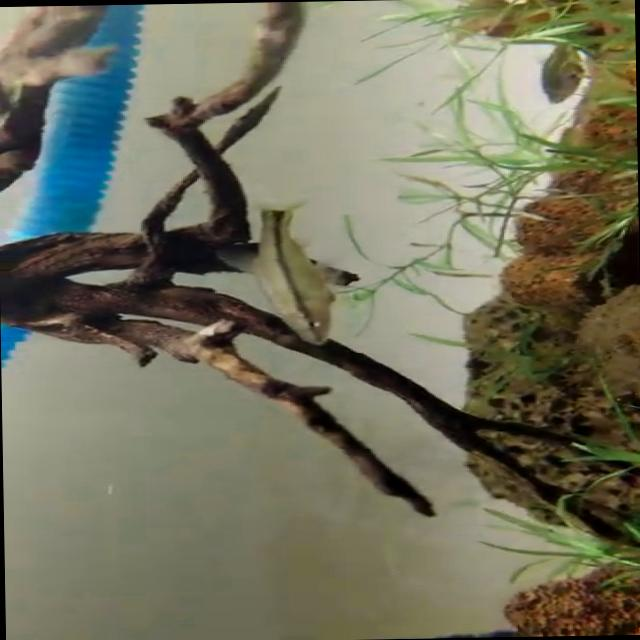Cakil Baligi: (216, 174, 338, 351)
